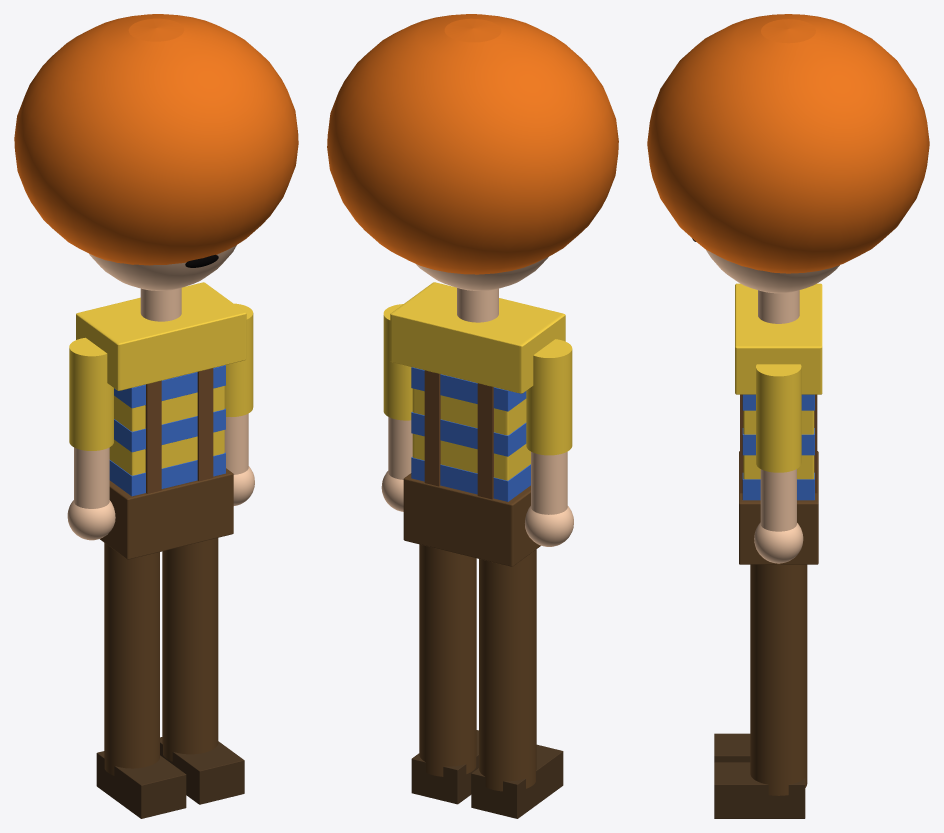
Rendered from filho.glb.
The picture shows the model from 3 angles, left to right: view 1: azimuth 30°, elevation 25°; view 2: azimuth 150°, elevation 25°; view 3: azimuth 270°, elevation 25°; orthographic projection. The views are drawn at different scales.
Visible parts, largest first — view 1: afro, coxa-1, coxa1, ombros, quadril, braco_c-1, tronco, sap-1, sap1, rosto, antebraco-1, braco_c1 (+9 smaller); view 2: afro, coxa-1, coxa1, ombros, quadril, braco_c-1, tronco, sap-1, antebraco-1, braco_c1, sap1, lis0 (+9 smaller); view 3: afro, coxa1, ombros, braco_c1, sap1, quadril, antebraco1, rosto, mao1, tronco, pescoco, sap-1 (+3 smaller).
Boxes of the visible parts, <box> form: afro: <box>14,14,298,265</box>; coxa-1: <box>104,543,159,775</box>; coxa1: <box>162,538,218,761</box>; ombros: <box>76,282,246,390</box>; quadril: <box>100,468,233,559</box>; braco_c-1: <box>69,337,113,450</box>; tronco: <box>109,386,224,475</box>; sap-1: <box>96,751,186,818</box>; sap1: <box>160,737,244,804</box>; rosto: <box>89,245,236,290</box>; antebraco-1: <box>74,447,109,508</box>; braco_c1: <box>224,303,253,416</box>; afro: <box>327,14,618,274</box>; coxa-1: <box>479,549,536,791</box>; coxa1: <box>419,544,476,776</box>; ombros: <box>390,282,565,393</box>; quadril: <box>403,473,540,566</box>; braco_c-1: <box>526,339,572,455</box>; tronco: <box>412,388,530,480</box>; sap-1: <box>471,744,563,818</box>; antebraco-1: <box>531,452,567,514</box>; braco_c1: <box>383,304,412,420</box>; sap1: <box>411,730,478,804</box>; lis0: <box>411,457,530,501</box>; afro: <box>647,14,929,273</box>; coxa1: <box>750,564,807,795</box>; ombros: <box>735,283,822,394</box>; braco_c1: <box>756,364,801,472</box>; sap1: <box>714,762,805,818</box>; quadril: <box>739,451,818,564</box>; antebraco1: <box>760,469,796,531</box>; rosto: <box>706,250,839,293</box>; mao1: <box>754,522,803,563</box>; tronco: <box>743,410,814,479</box>; pescoco: <box>758,290,799,323</box>; sap-1: <box>714,733,750,762</box>.
Size of the model in its own units: 0.5082 by 1.47 by 0.4913.
